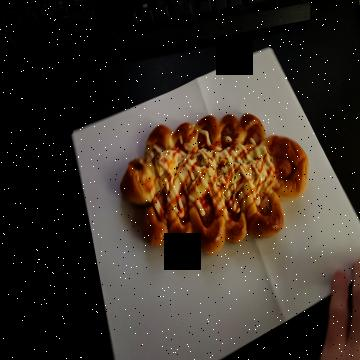pizza_bread: (120, 108, 311, 257)
